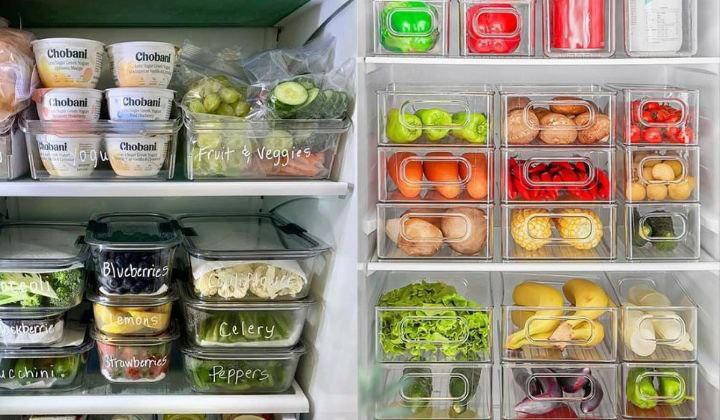bell pepper: (186, 344, 301, 391)
